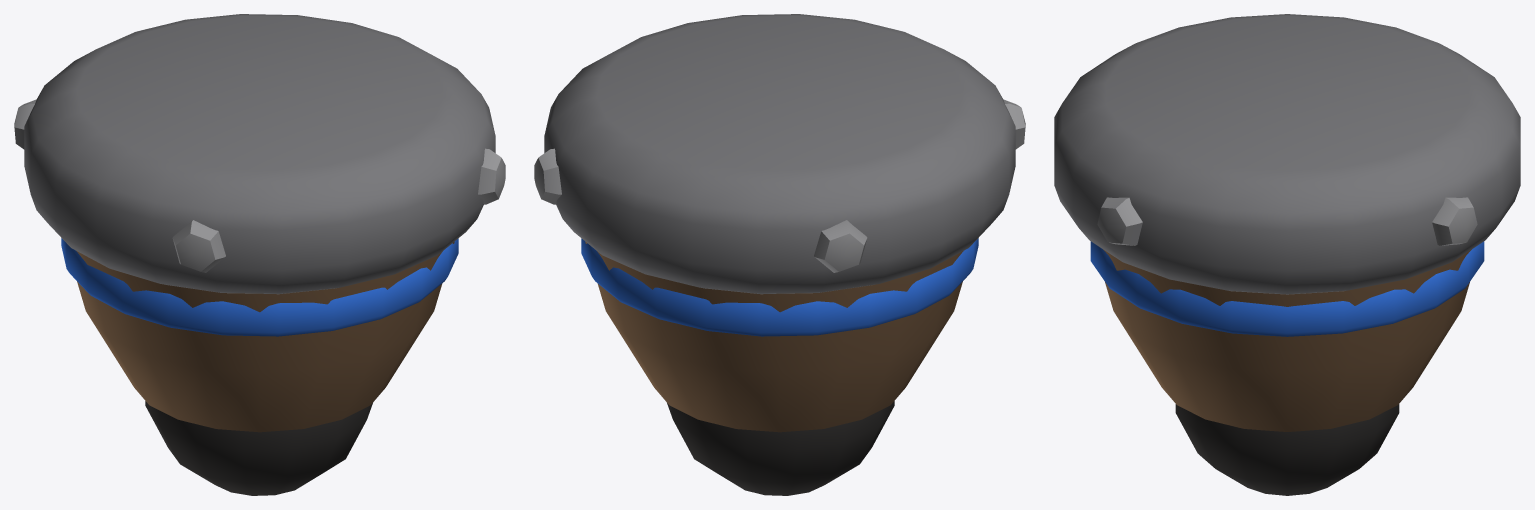
The model's file is Kit_Foot_Peg.glb.
3 views of the same model, side by side, from view 1: azimuth 30°, elevation 25°; view 2: azimuth 150°, elevation 25°; view 3: azimuth 270°, elevation 25° (orthographic).
Parts seen in each view (by area): view 1: Kit_Foot_Peg; view 2: Kit_Foot_Peg; view 3: Kit_Foot_Peg.
Boxes of the visible parts, x1,y1,x2,y2 form: Kit_Foot_Peg: [14, 14, 505, 495]; Kit_Foot_Peg: [534, 14, 1025, 495]; Kit_Foot_Peg: [1054, 14, 1520, 495].
Bounding box in the file's own units: 0.096 × 0.088 × 0.095.
